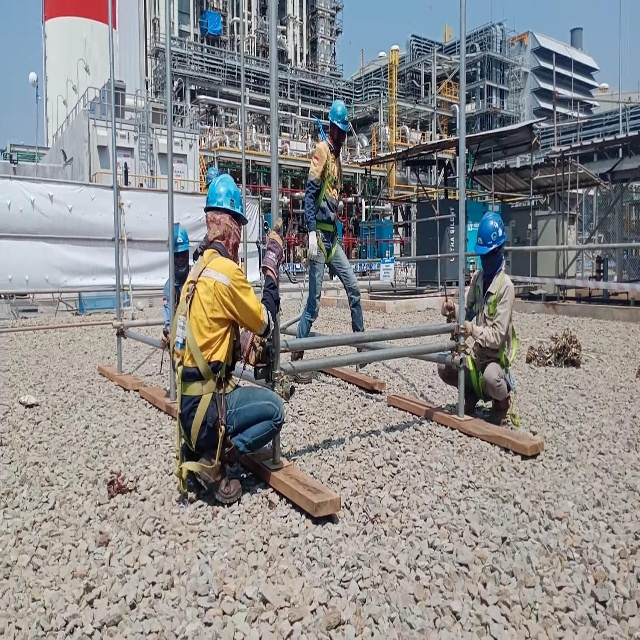Arnes_seguridad: (172, 243, 246, 492), (462, 263, 519, 407), (313, 140, 343, 271)
